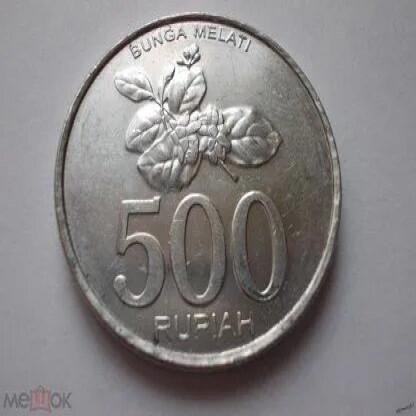coin_500_e2003: (53, 8, 344, 369)
